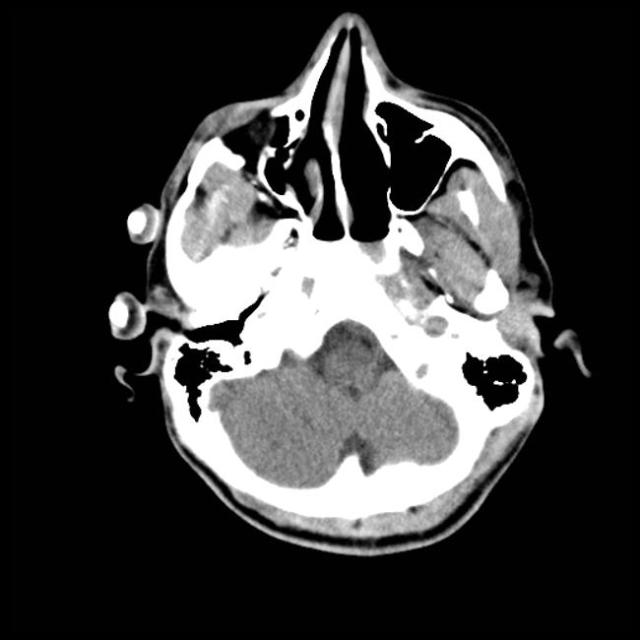lesion: (105, 12, 583, 557)
